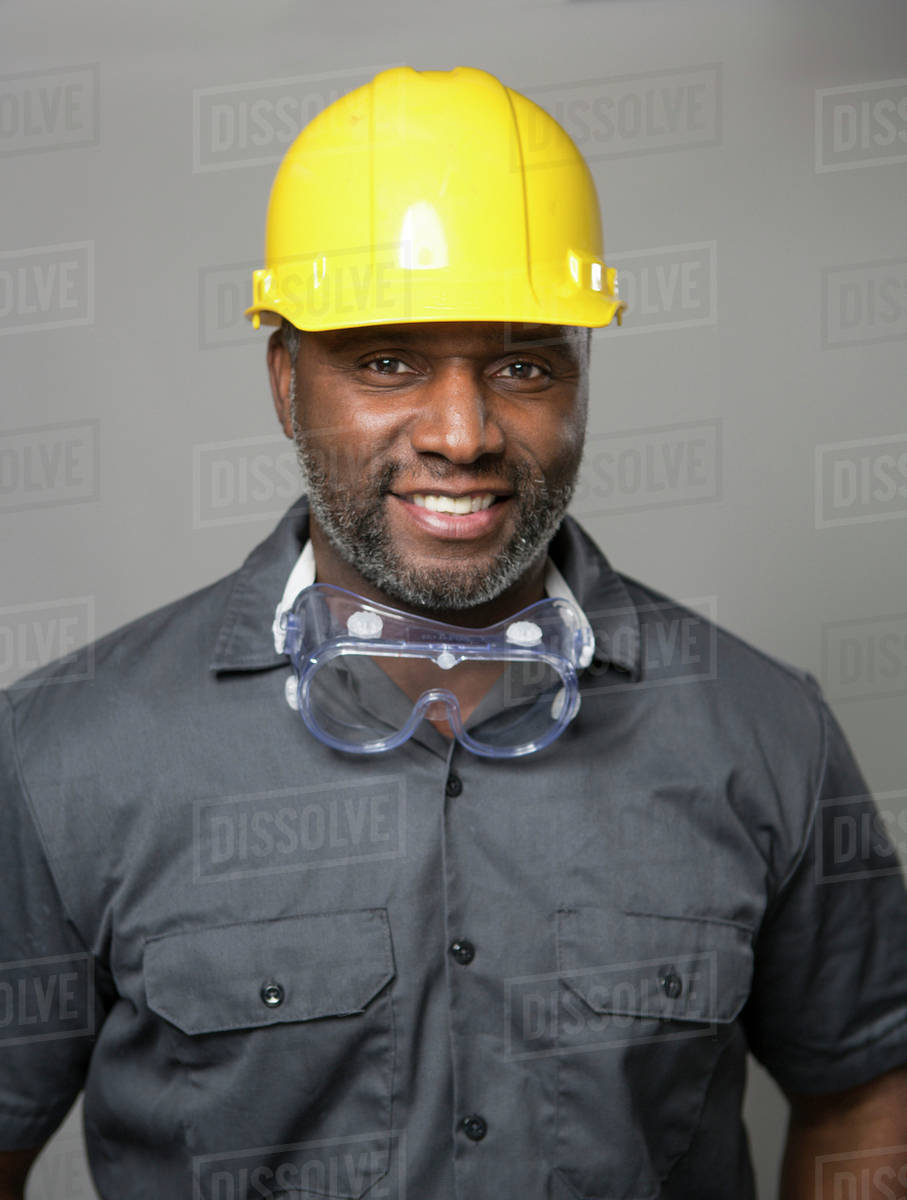Person_wearing_helmet: (211, 47, 632, 428)
